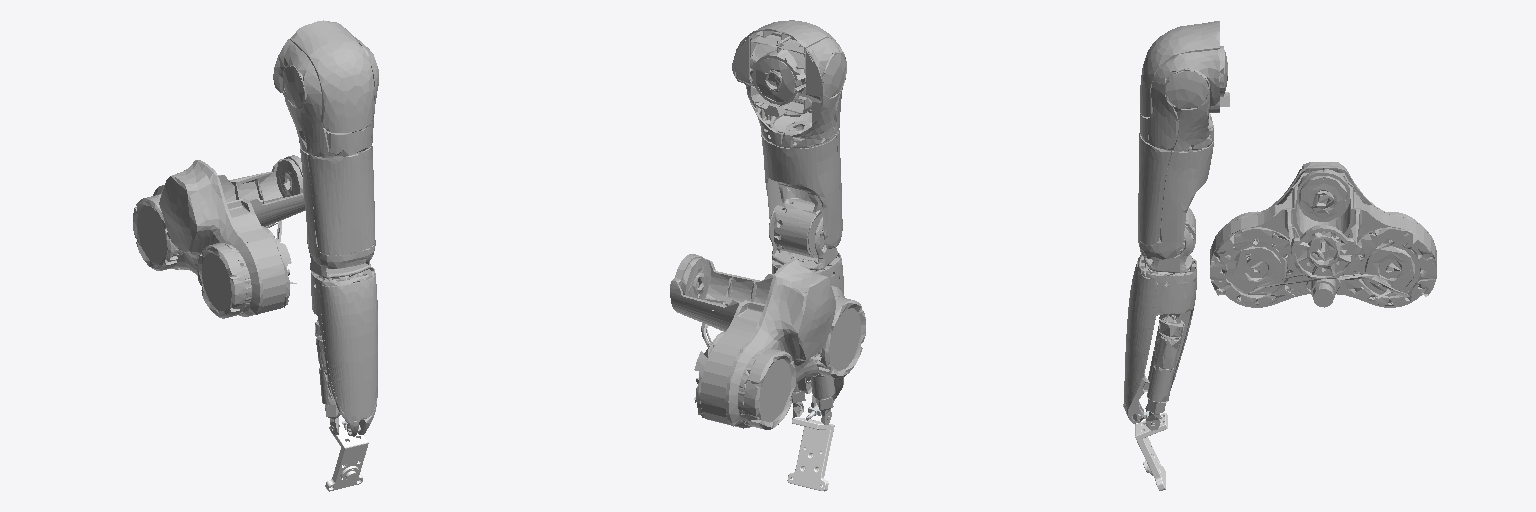
URDF robot description (p4_humanoid_l_arm):
<?xml version="1.0" encoding="utf-8"?>
<!-- This URDF was automatically created by SolidWorks to URDF Exporter! Originally created by Stephen Brawner (brawner@gmail.com) 
     Commit Version: 1.6.0-4-g7f85cfe  Build Version: 1.6.7995.38578
     For more information, please see http://wiki.ros.org/sw_urdf_exporter -->
<robot
  name="p4_humanoid_l_arm">

    <link
        name="pelvis">
        <inertial>
        <origin
            xyz="-0.097501 -0.00071331 0.014496"
            rpy="0 0 0" />
        <mass
            value="7.3588" />
        <inertia
            ixx="0.07295321"
            ixy="5.28E-05"
            ixz="0.00061832"
            iyy="0.01891928"
            iyz="7.9E-05"
            izz="0.06144182" />
        </inertial>
        <visual>
        <origin
            xyz="0 0 0"
            rpy="0 0 0" />
        <geometry>
            <mesh
            filename="package://p4_humanoid_description/meshes/pelvis.STL" />
        </geometry>
        <material
            name="">
            <color
            rgba="0.75294 0.75294 0.75294 1" />
        </material>
        </visual>
        <collision>
        <origin
            xyz="0 0 0"
            rpy="0 0 0" />
        <geometry>
            <mesh
            filename="package://p4_humanoid_description/meshes/pelvis.STL" />
        </geometry>
        </collision>
    </link>

  <link
    name="link_ra1">
    <inertial>
      <origin
        xyz="0.0017444 0.0032911 -0.00048706"
        rpy="0 0 0" />
      <mass
        value="1.5214" />
      <inertia
        ixx="0.0020202"
        ixy="1.53E-06"
        ixz="8E-08"
        iyy="0.0020419"
        iyz="-2.22E-05"
        izz="0.0021238" />
    </inertial>
    <visual>
      <origin
        xyz="0 0 0"
        rpy="0 0 0" />
      <geometry>
        <mesh
          filename="package://p5_humanoid_description/meshes/link_ra1.STL" />
      </geometry>
      <material
        name="">
        <color
          rgba="0.75294 0.75294 0.75294 1" />
      </material>
    </visual>
    <collision>
      <origin
        xyz="0 0 0"
        rpy="0 0 0" />
      <geometry>
        <mesh
          filename="package://p5_humanoid_description/meshes/link_ra1.STL" />
      </geometry>
    </collision>
  </link>
  <joint
    name="joint_ra1"
    type="revolute">
    <origin
      xyz="-0.0079 -0.19799 0.346"
      rpy="0 0 0" />
    <parent
      link="pelvis" />
    <child
      link="link_ra1" />
    <axis
      xyz="0 1 0" />
    <limit
      lower="-2.7576"
      upper="2.7576"
      effort="1000"
      velocity="10" />
  </joint>
  <link
    name="link_ra2">
    <inertial>
      <origin
        xyz="0.00266 -0.006084 -0.044177"
        rpy="0 0 0" />
      <mass
        value="0.5934" />
      <inertia
        ixx="0.0019946"
        ixy="-1.051E-05"
        ixz="-5.194E-05"
        iyy="0.0027114"
        iyz="-0.000263"
        izz="0.0017907" />
    </inertial>
    <visual>
      <origin
        xyz="0 0 0"
        rpy="0 0 0" />
      <geometry>
        <mesh
          filename="package://p5_humanoid_description/meshes/link_ra2.STL" />
      </geometry>
      <material
        name="">
        <color
          rgba="0.75294 0.75294 0.75294 1" />
      </material>
    </visual>
    <collision>
      <origin
        xyz="0 0 0"
        rpy="0 0 0" />
      <geometry>
        <mesh
          filename="package://p5_humanoid_description/meshes/link_ra2.STL" />
      </geometry>
    </collision>
  </link>
  <joint
    name="joint_ra2"
    type="revolute">
    <origin
      xyz="0 0 0"
      rpy="0 0 0" />
    <parent
      link="link_ra1" />
    <child
      link="link_ra2" />
    <axis
      xyz="1 0 0" />
    <limit
      lower="-2.8798"
      upper="0.2618"
      effort="1000"
      velocity="10" />
  </joint>
  <link
    name="link_ra3">
    <inertial>
      <origin
        xyz="0.0043044 0.0005686 -0.086242"
        rpy="0 0 0" />
      <mass
        value="1.8035" />
      <inertia
        ixx="0.008233"
        ixy="-3.217E-05"
        ixz="0.00050344"
        iyy="0.0082866"
        iyz="0.00018591"
        izz="0.0017181" />
    </inertial>
    <visual>
      <origin
        xyz="0 0 0"
        rpy="0 0 0" />
      <geometry>
        <mesh
          filename="package://p5_humanoid_description/meshes/link_ra3.STL" />
      </geometry>
      <material
        name="">
        <color
          rgba="0.75294 0.75294 0.75294 1" />
      </material>
    </visual>
    <collision>
      <origin
        xyz="0 0 0"
        rpy="0 0 0" />
      <geometry>
        <mesh
          filename="package://p5_humanoid_description/meshes/link_ra3.STL" />
      </geometry>
    </collision>
  </link>
  <joint
    name="joint_ra3"
    type="revolute">
    <origin
      xyz="5.871E-05 -0.015599 -0.10454"
      rpy="-0.087272 0 0" />
    <parent
      link="link_ra2" />
    <child
      link="link_ra3" />
    <axis
      xyz="0 0 1" />
    <limit
      lower="-2.618"
      upper="2.618"
      effort="1000"
      velocity="10" />
  </joint>
  <link
    name="link_ra4">
    <inertial>
      <origin
        xyz="0.0037512 -0.00059846 -0.022713"
        rpy="0 0 0" />
      <mass
        value="0.19646" />
      <inertia
        ixx="0.00014929"
        ixy="-5.55E-06"
        ixz="-2.026E-05"
        iyy="0.0002863"
        iyz="1.87E-06"
        izz="0.00023341" />
    </inertial>
    <visual>
      <origin
        xyz="0 0 0"
        rpy="0 0 0" />
      <geometry>
        <mesh
          filename="package://p5_humanoid_description/meshes/link_ra4.STL" />
      </geometry>
      <material
        name="">
        <color
          rgba="0.75294 0.75294 0.75294 1" />
      </material>
    </visual>
    <collision>
      <origin
        xyz="0 0 0"
        rpy="0 0 0" />
      <geometry>
        <mesh
          filename="package://p5_humanoid_description/meshes/link_ra4.STL" />
      </geometry>
    </collision>
  </link>
  <joint
    name="joint_ra4"
    type="revolute">
    <origin
      xyz="0.00075225 0.0049994 -0.154"
      rpy="0 1.3325E-05 -0.00086091" />
    <parent
      link="link_ra3" />
    <child
      link="link_ra4" />
    <axis
      xyz="1 0 0" />
    <limit
      lower="-0.1745"
      upper="2.2166"
      effort="1000"
      velocity="10" />
  </joint>
  <link
    name="link_ra5">
    <inertial>
      <origin
        xyz="-8.05E-05 -0.00037564 -0.15082"
        rpy="0 0 0" />
      <mass
        value="2.0103" />
      <inertia
        ixx="0.013613"
        ixy="2.4E-07"
        ixz="1.157E-05"
        iyy="0.013825"
        iyz="-0.00019251"
        izz="0.0018716" />
    </inertial>
    <visual>
      <origin
        xyz="0 0 0"
        rpy="0 0 0" />
      <geometry>
        <mesh
          filename="package://p5_humanoid_description/meshes/link_ra5.STL" />
      </geometry>
      <material
        name="">
        <color
          rgba="0.75294 0.75294 0.75294 1" />
      </material>
    </visual>
    <collision>
      <origin
        xyz="0 0 0"
        rpy="0 0 0" />
      <geometry>
        <mesh
          filename="package://p5_humanoid_description/meshes/link_ra5.STL" />
      </geometry>
    </collision>
  </link>
  <joint
    name="joint_ra5"
    type="revolute">
    <origin
      xyz="0 0 0"
      rpy="0 0 0" />
    <parent
      link="link_ra4" />
    <child
      link="link_ra5" />
    <axis
      xyz="0 0 1" />
    <limit
      lower="-2.9147"
      upper="2.9147"
      effort="1000"
      velocity="10" />
  </joint>
  <link
    name="link_ra6">
    <inertial>
      <origin
        xyz="0 0.010485 -1.3192E-05"
        rpy="0 0 0" />
      <mass
        value="0.0077626" />
      <inertia
        ixx="8.9E-07"
        ixy="0"
        ixz="0"
        iyy="1.4E-07"
        iyz="0"
        izz="9.3E-07" />
    </inertial>
    <visual>
      <origin
        xyz="0 0 0"
        rpy="0 0 0" />
      <geometry>
        <mesh
          filename="package://p5_humanoid_description/meshes/link_ra6.STL" />
      </geometry>
      <material
        name="">
        <color
          rgba="0.89804 0.91765 0.92941 1" />
      </material>
    </visual>
    <collision>
      <origin
        xyz="0 0 0"
        rpy="0 0 0" />
      <geometry>
        <mesh
          filename="package://p5_humanoid_description/meshes/link_ra6.STL" />
      </geometry>
    </collision>
  </link>
  <joint
    name="joint_ra6"
    type="revolute">
    <origin
      xyz="0 -0.02371 -0.29585"
      rpy="-0.045412 0 0" />
    <parent
      link="link_ra5" />
    <child
      link="link_ra6" />
    <axis
      xyz="1 0 0" />
    <limit
      lower="-0.9948"
      upper="0.9948"
      effort="1000"
      velocity="10" />
  </joint>
  

  <joint
    name="joint_ra7"
    type="revolute" dont_collapse="true">
    <origin
      xyz="0 0.05 -0.05"
      rpy="0.54 3.141592 3.141592" />
    <parent
      link="link_ra6" />
    <child
      link="grip_base_link_r" />
    <axis
      xyz="0 1 0" />
    <limit
      lower="-0.4538"
      upper="0.4538"
      effort="60"
      velocity="3" />
            <dynamics damping="1.0e-6" friction="2.0e-1"/>
  </joint>


<link
    name="grip_base_link_r">
    <inertial>
      <origin
        xyz="1.1069E-08 -0.007103 -0.020658"
        rpy="0 0 0" />
      <mass
        value="0.059729" />
      <inertia
        ixx="6.4028E-05"
        ixy="1.282E-11"
        ixz="-1.0166E-11"
        iyy="1.8469E-05"
        iyz="1.2373E-05"
        izz="6.4362E-05" />
    </inertial>
    <visual>
      <origin
        xyz="0 0 0"
        rpy="0 0 0" />
      <geometry>
        <mesh
          filename="package://p5_humanoid_description/meshes/grip_base_link.STL" />
      </geometry>
      <material
        name="">
        <color
          rgba="1 1 1 0.32" />
      </material>
    </visual>
    <!-- <collision>
      <origin
        xyz="0 0 0"
        rpy="0 0 0" />
      <geometry>
        <mesh
          filename="package://p5_humanoid_description/meshes/grip_base_link.STL" />
      </geometry>
    </collision> -->
  </link>
  </robot>

--- What the picture shows (computed from the rendered views, not written in the file) ---
Views: 3 orthographic renders of the robot side by side, from view 1: azimuth 30°, elevation 25°; view 2: azimuth 150°, elevation 25°; view 3: azimuth 270°, elevation 25°.
Model p4_humanoid_l_arm with 8 links and 7 joints (7 revolute), rooted at pelvis, posed every joint at zero.
Visible links, largest first — view 1: pelvis, link_ra5, link_ra3, link_ra1, link_ra2, grip_base_link_r, link_ra4; view 2: pelvis, link_ra3, link_ra2, link_ra1, grip_base_link_r, link_ra5, link_ra4; view 3: pelvis, link_ra5, link_ra3, link_ra2, link_ra1, grip_base_link_r, link_ra4.
Boxes of the visible links, bbox=[...] form: pelvis: bbox=[133, 155, 304, 318]; link_ra5: bbox=[311, 267, 377, 436]; link_ra3: bbox=[300, 145, 375, 268]; link_ra1: bbox=[290, 20, 374, 132]; link_ra2: bbox=[273, 28, 378, 156]; grip_base_link_r: bbox=[325, 421, 368, 491]; link_ra4: bbox=[307, 240, 370, 278]; pelvis: bbox=[670, 254, 865, 429]; link_ra3: bbox=[761, 127, 842, 257]; link_ra2: bbox=[732, 34, 846, 147]; link_ra1: bbox=[750, 20, 835, 116]; grip_base_link_r: bbox=[787, 418, 834, 491]; link_ra5: bbox=[772, 253, 843, 424]; link_ra4: bbox=[769, 204, 837, 270]; pelvis: bbox=[1210, 162, 1436, 307]; link_ra5: bbox=[1123, 254, 1196, 430]; link_ra3: bbox=[1138, 133, 1213, 259]; link_ra2: bbox=[1140, 49, 1219, 150]; link_ra1: bbox=[1140, 21, 1229, 116]; grip_base_link_r: bbox=[1135, 413, 1167, 490]; link_ra4: bbox=[1144, 228, 1195, 273].
Size in the robot's own frame: 0.2287 by 0.4578 by 0.7355 metres.
8 mesh visuals loaded from 8 distinct referenced files (8 binary STL).
